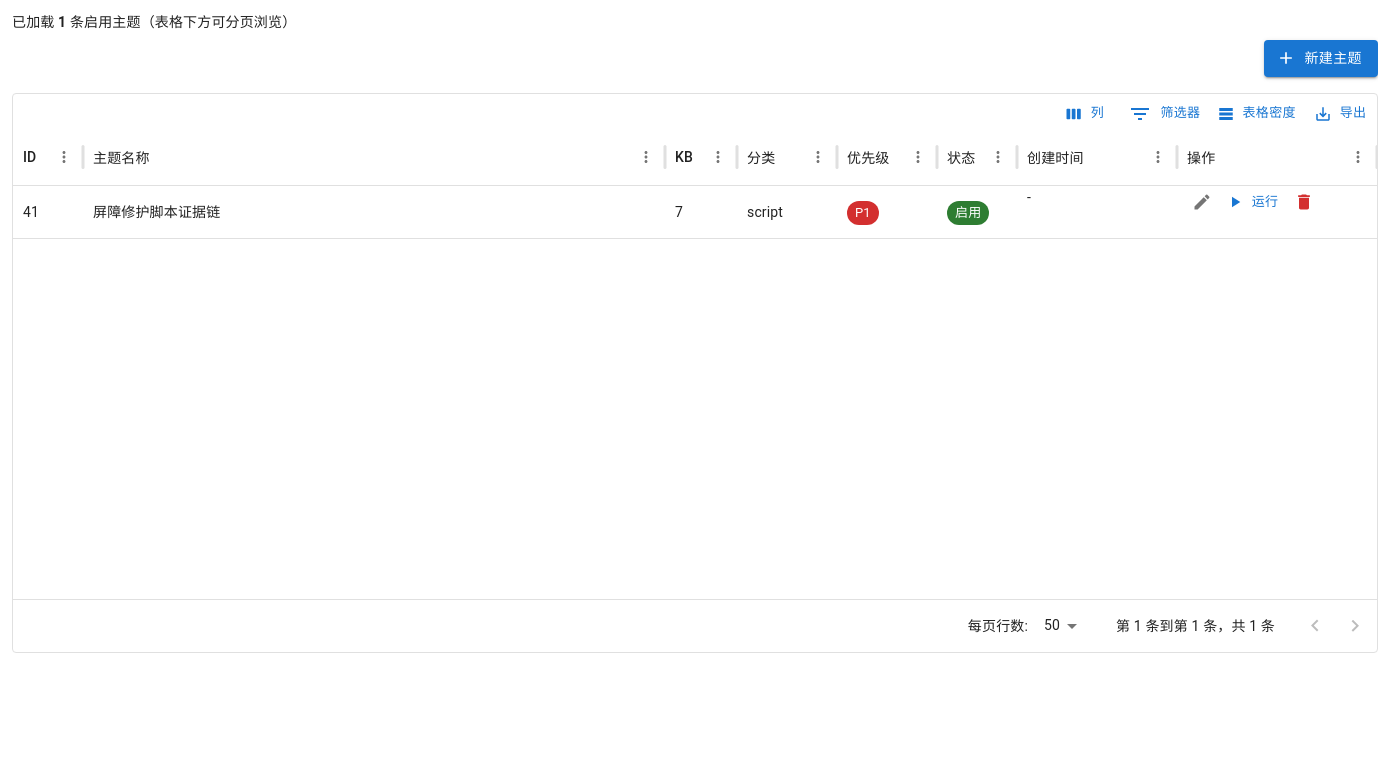
Test: Evolution governance tabs › TopicsTab keeps topic row when run endpoint fails
The image size is (1390, 780).
Expected: the text "屏障修护脚本证据链" is shown, [93,204,220,220]
Click the button "运行" at (1253, 202), box [1221,186,1285,217]
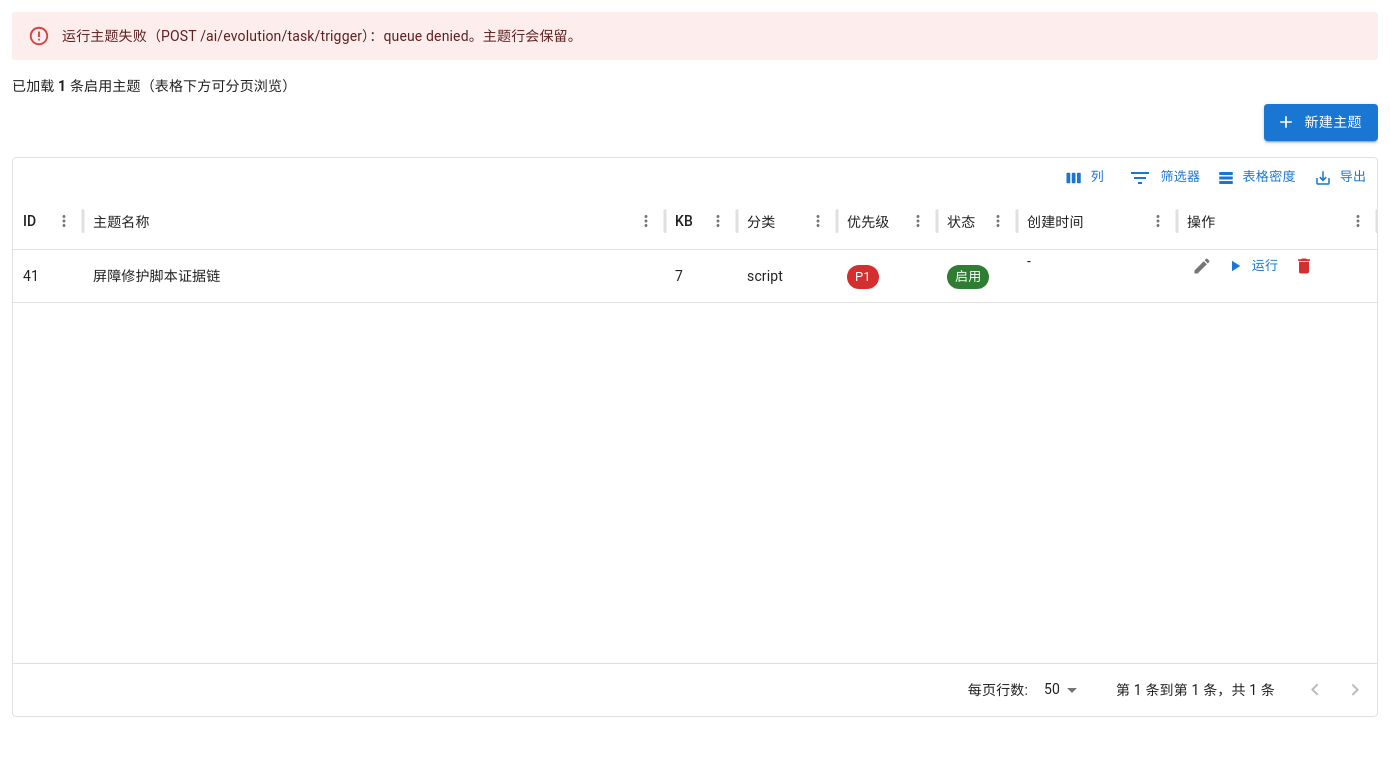
Expected: the text "屏障修护脚本证据链" is shown, [93,268,220,284]
Now the text "运行主题失败（POST /ai/evolution/task/trigger）：queue denied。主题行会保留。" is shown, box [62,28,582,44]
